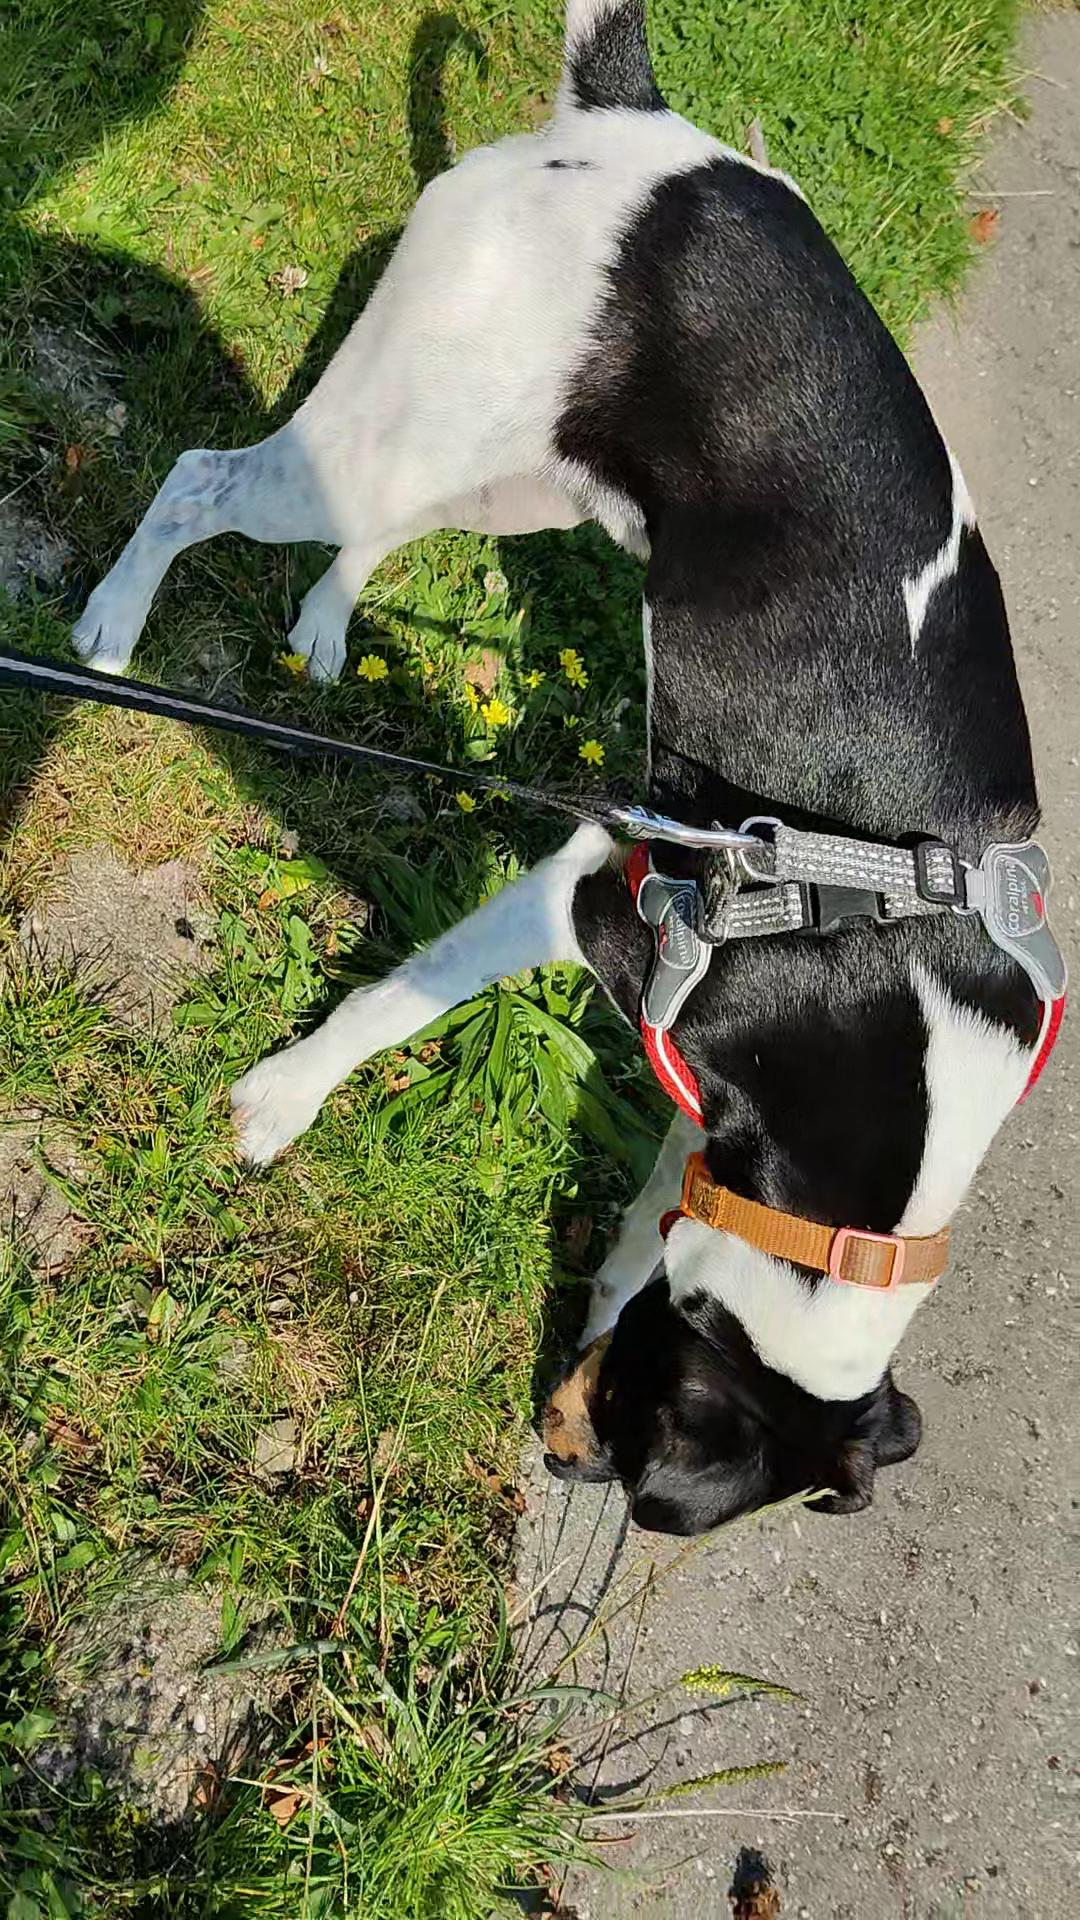Dog: (62, 0, 1065, 1538)
